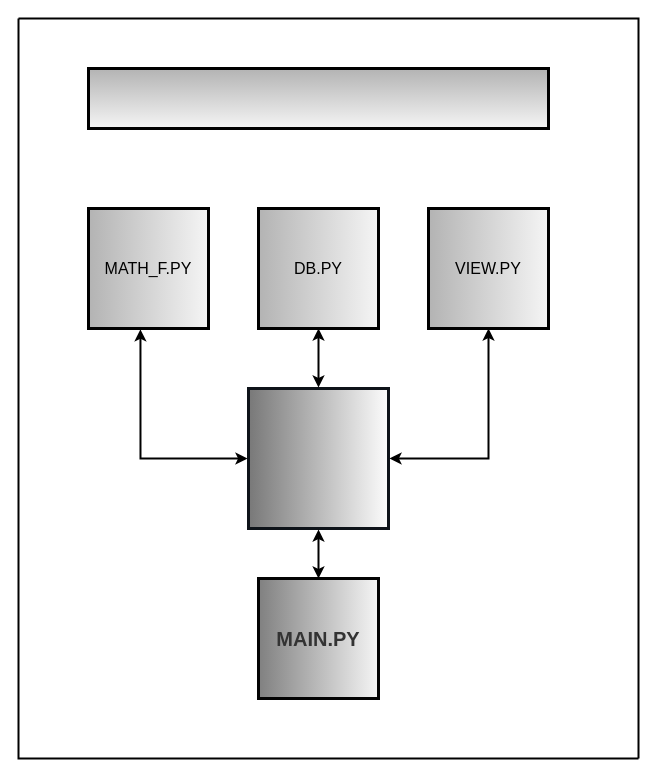
Some shapes in this 657 by 777 pixel diagram are drawn without their labels. Here are the shapes that lost their labels. From the top down, the centre of each, then its label:
(x=318, y=98): "Архитектура для программы калькулятор"
(x=318, y=458): CONTROLLER.PY
